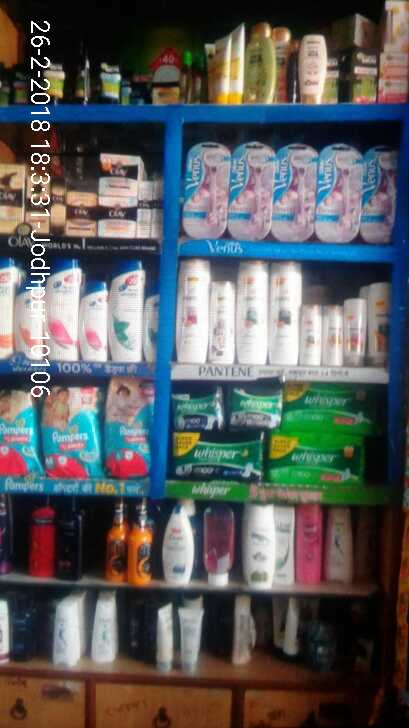venus: (273, 143, 321, 241), (183, 141, 232, 234), (232, 141, 273, 241), (321, 144, 360, 237), (360, 147, 396, 237)
